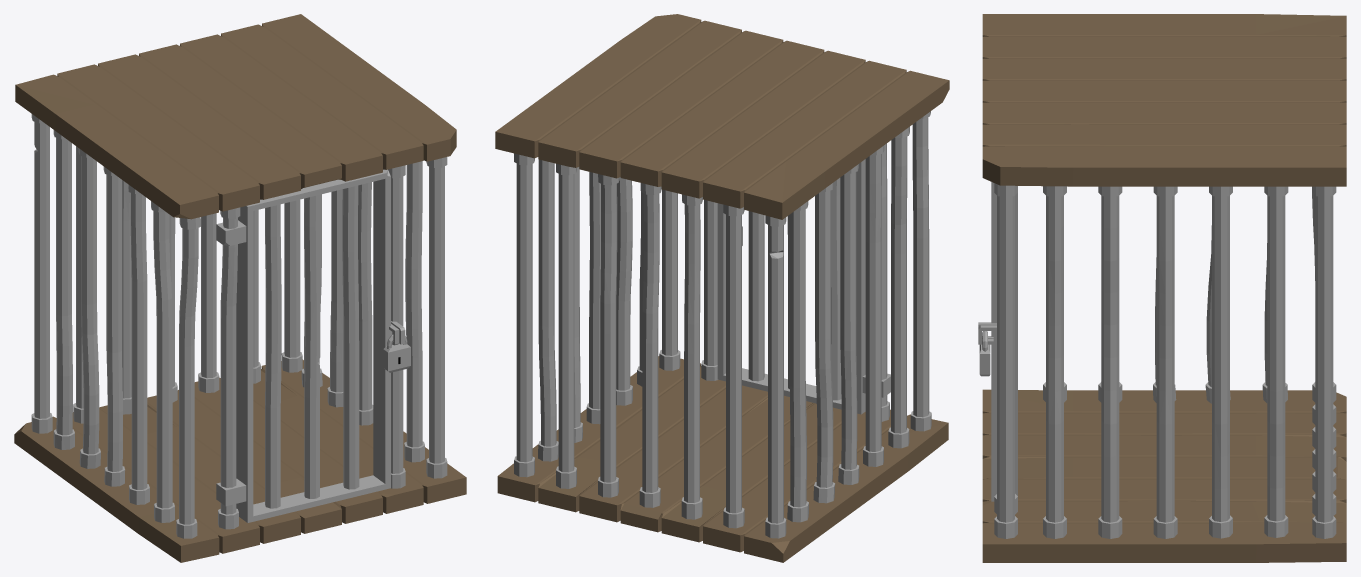
Rendered from Cage closed.fbx.
3 views of the same model, side by side, from view 1: azimuth 30°, elevation 25°; view 2: azimuth 150°, elevation 25°; view 3: azimuth 270°, elevation 25° (orthographic). The views are drawn at different scales.
Visible parts, largest first — view 1: Cage closed; view 2: Cage closed; view 3: Cage closed.
Part boxes in pixels (box(x1,y1,x2,y2)): Cage closed: box(14, 14, 466, 562); Cage closed: box(495, 14, 949, 562); Cage closed: box(978, 14, 1346, 562).
Bounding box in the file's own units: 2.4 × 2.87 × 2.42.
